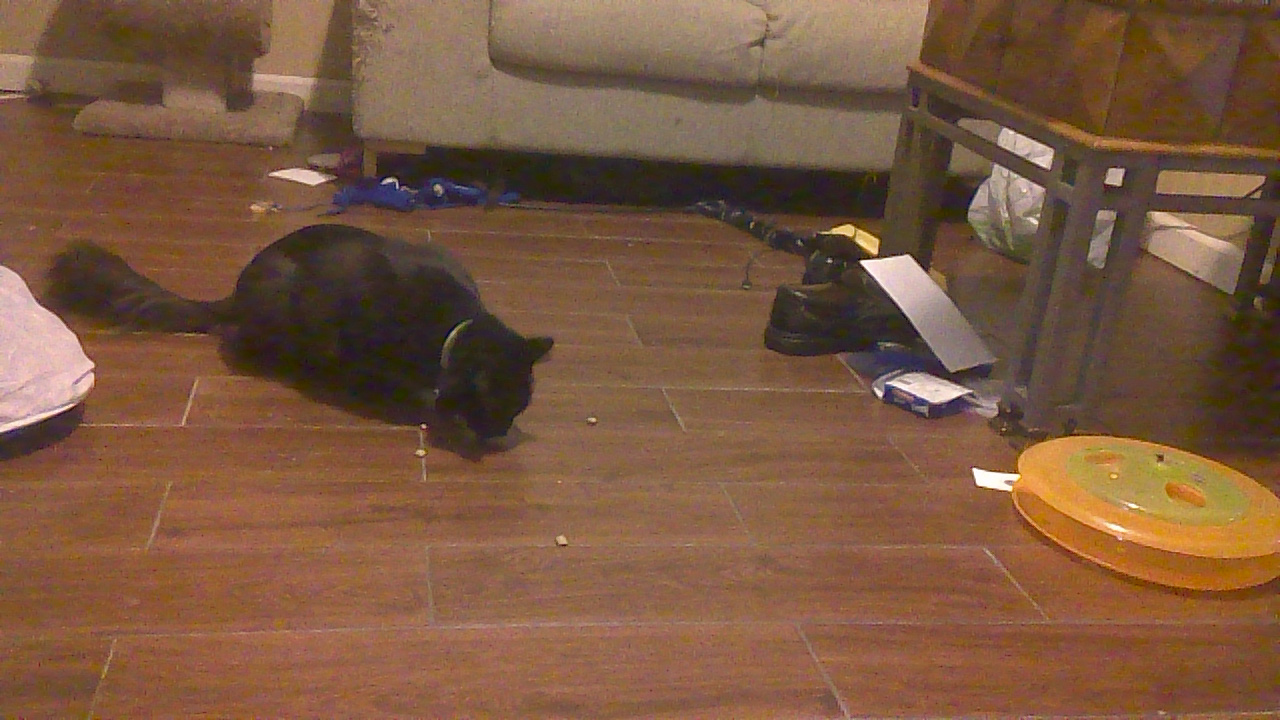cat: (54, 221, 556, 441)
